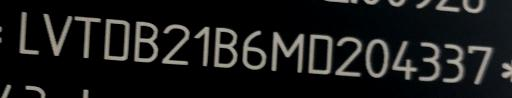letter: (268, 28, 306, 74), (40, 10, 74, 56), (73, 13, 103, 60), (160, 22, 192, 66), (465, 42, 495, 87), (101, 16, 131, 61), (333, 34, 363, 77), (130, 20, 160, 62), (390, 38, 418, 82), (440, 40, 468, 84), (306, 32, 334, 76), (240, 29, 268, 71), (416, 39, 442, 82), (212, 26, 238, 68), (364, 37, 390, 78), (18, 8, 40, 54), (192, 24, 210, 68)
